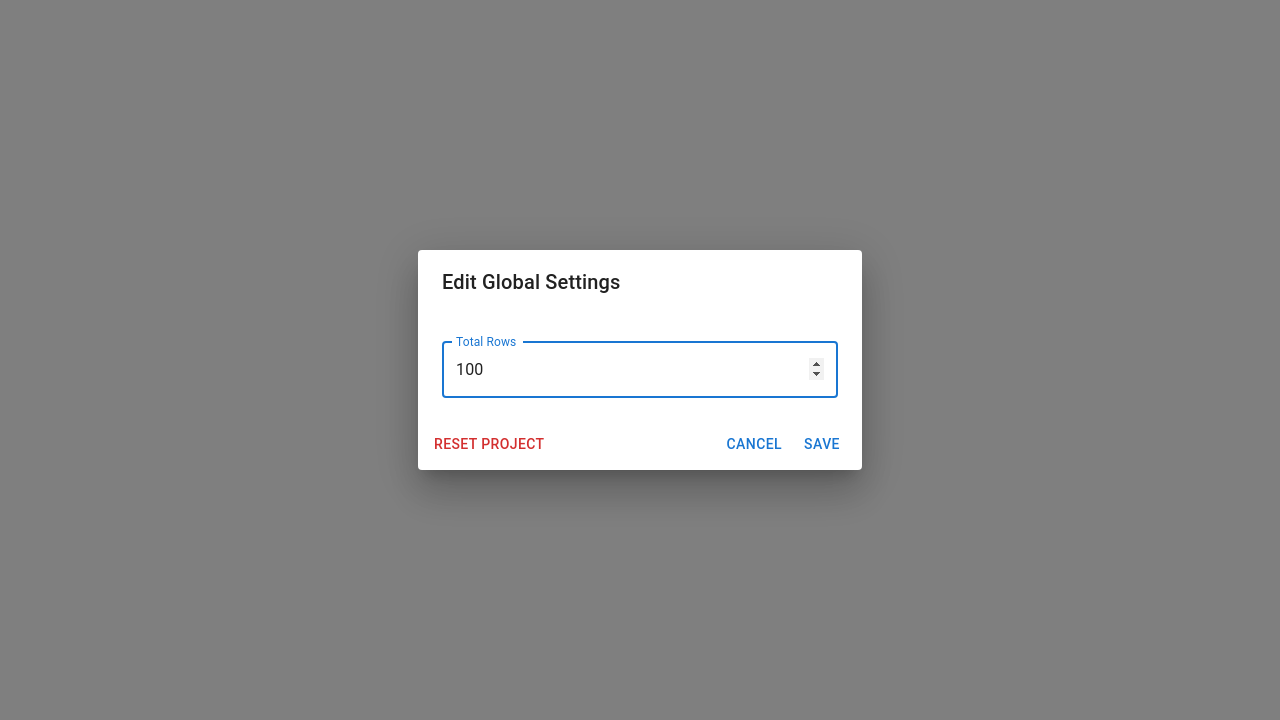
Test: GlobalDialog › opens confirmation dialog when Reset Project is clicked
Click the button "Reset Project" at (489, 444), box [426,426,552,462]
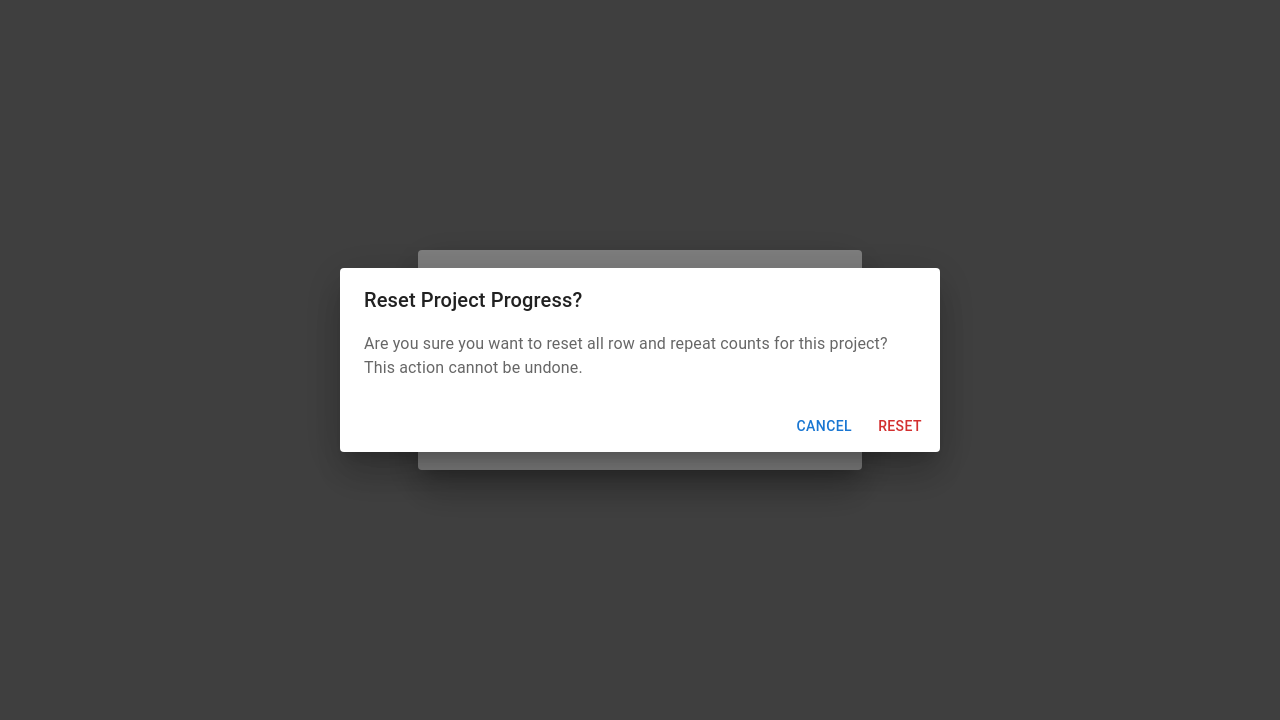
Expected: the heading "Reset Project Progress?" is shown, [364,288,582,312]
Expected: the text "Are you sure you want to reset all row and repeat counts for this project? This action cannot be undone." is shown, [364,334,888,377]
